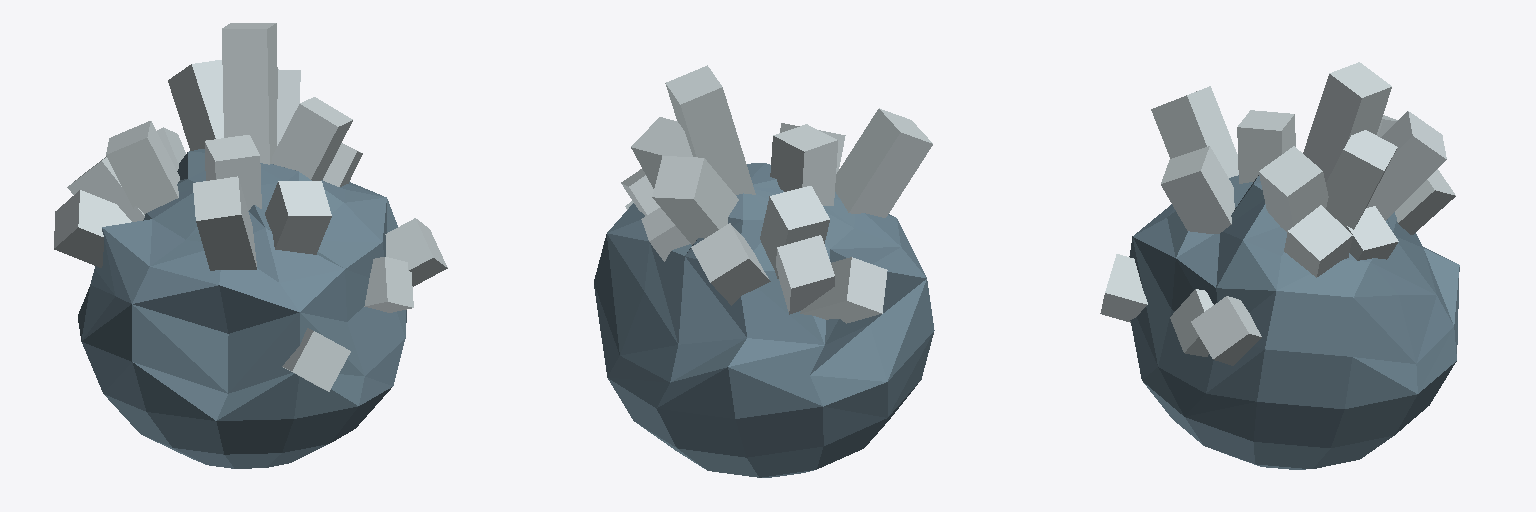
File: ScandiumOre.obj
3 views of the same model, side by side, from view 1: azimuth 30°, elevation 25°; view 2: azimuth 150°, elevation 25°; view 3: azimuth 270°, elevation 25° (orthographic).
Parts seen in each view (by area): view 1: group[number redacted], group[number redacted], group[number redacted], group[number redacted], group[number redacted], group[number redacted], group[number redacted], group[number redacted], group[number redacted], group[number redacted], group[number redacted], group[number redacted] (+4 smaller); view 2: group[number redacted], group[number redacted], group[number redacted], group[number redacted], group[number redacted], group[number redacted], group[number redacted], group[number redacted], group[number redacted], group[number redacted], group[number redacted], group[number redacted]; view 3: group[number redacted], group[number redacted], group[number redacted], group[number redacted], group[number redacted], group[number redacted], group[number redacted], group[number redacted], group[number redacted], group[number redacted], group[number redacted], group[number redacted] (+2 smaller).
Boxes of the visible parts, x1=… form: group[number redacted]: x1=78, y1=149, x2=406, y2=468; group[number redacted]: x1=222, y1=23, x2=277, y2=164; group[number redacted]: x1=193, y1=176, x2=256, y2=270; group[number redacted]: x1=106, y1=121, x2=179, y2=214; group[number redacted]: x1=272, y1=97, x2=352, y2=180; group[number redacted]: x1=265, y1=181, x2=331, y2=254; group[number redacted]: x1=168, y1=60, x2=223, y2=150; group[number redacted]: x1=54, y1=190, x2=131, y2=267; group[number redacted]: x1=205, y1=135, x2=261, y2=210; group[number redacted]: x1=385, y1=218, x2=447, y2=286; group[number redacted]: x1=282, y1=328, x2=350, y2=391; group[number redacted]: x1=364, y1=257, x2=413, y2=312; group[number redacted]: x1=594, y1=163, x2=934, y2=477; group[number redacted]: x1=835, y1=108, x2=932, y2=217; group[number redacted]: x1=665, y1=65, x2=755, y2=194; group[number redacted]: x1=652, y1=156, x2=738, y2=244; group[number redacted]: x1=770, y1=124, x2=837, y2=205; group[number redacted]: x1=800, y1=257, x2=887, y2=323; group[number redacted]: x1=691, y1=223, x2=770, y2=305; group[number redacted]: x1=760, y1=186, x2=829, y2=278; group[number redacted]: x1=776, y1=235, x2=834, y2=314; group[number redacted]: x1=631, y1=117, x2=692, y2=188; group[number redacted]: x1=641, y1=207, x2=690, y2=261; group[number redacted]: x1=621, y1=169, x2=659, y2=215; group[number redacted]: x1=1129, y1=175, x2=1459, y2=469; group[number redacted]: x1=1303, y1=62, x2=1391, y2=181; group[number redacted]: x1=1161, y1=146, x2=1234, y2=233; group[number redacted]: x1=1367, y1=111, x2=1446, y2=220; group[number redacted]: x1=1151, y1=86, x2=1238, y2=177; group[number redacted]: x1=1326, y1=130, x2=1397, y2=229; group[number redacted]: x1=1259, y1=146, x2=1328, y2=232; group[number redacted]: x1=1284, y1=205, x2=1352, y2=277; group[number redacted]: x1=1237, y1=110, x2=1295, y2=183; group[number redacted]: x1=1191, y1=296, x2=1261, y2=365; group[number redacted]: x1=1100, y1=254, x2=1147, y2=322; group[number redacted]: x1=1395, y1=169, x2=1455, y2=234.
Size of the model in its own units: 1.11 by 1.33 by 1.09.